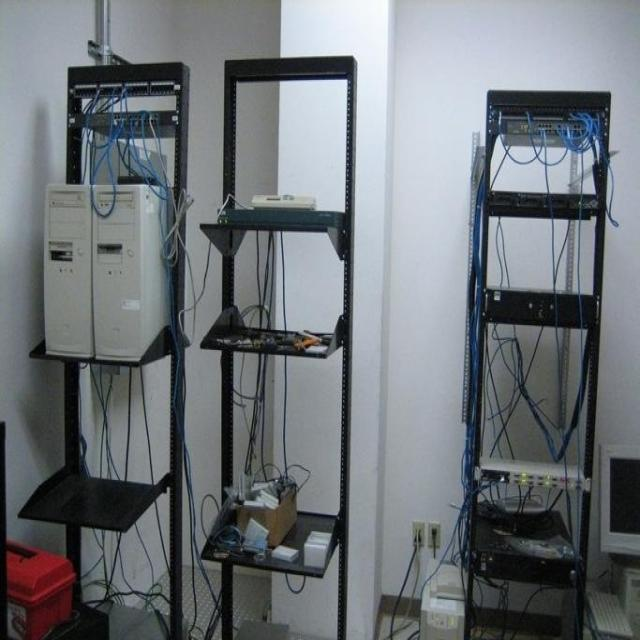Cable: (33, 42, 333, 628), (404, 41, 592, 640)
E-waste: (36, 173, 166, 367)
